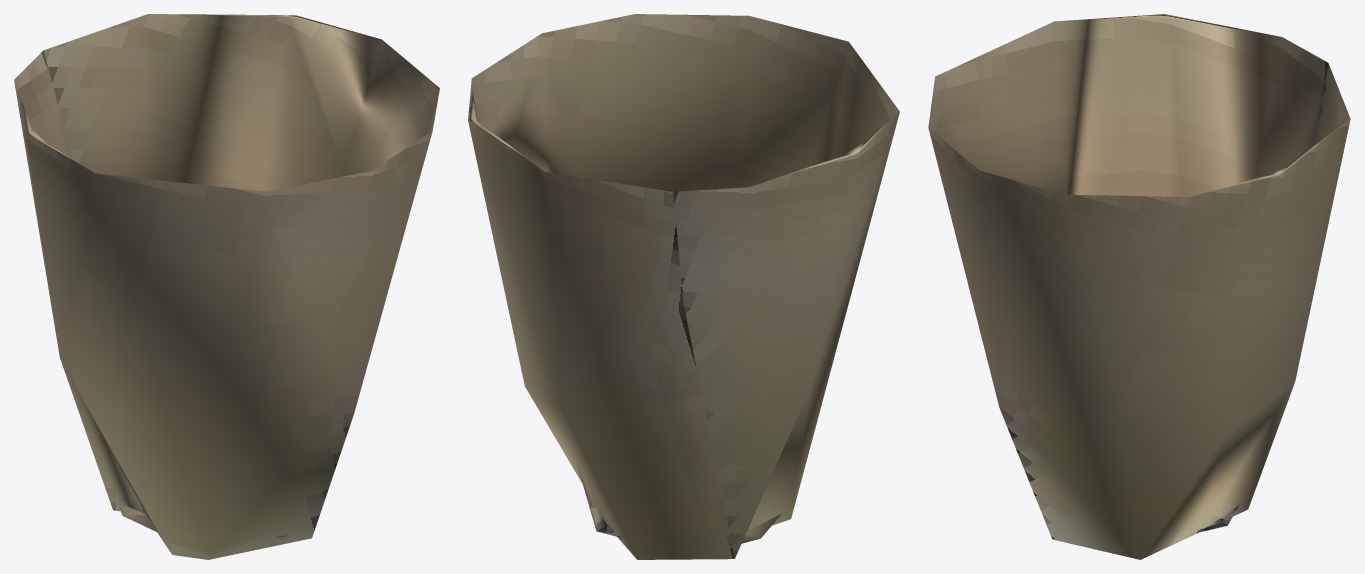
Rendered from Ecoforms_Plant_Container_URN_SAN-low.glb.
3 views of the same model, side by side, from view 1: azimuth 30°, elevation 25°; view 2: azimuth 150°, elevation 25°; view 3: azimuth 270°, elevation 25° (orthographic).
Visible parts, largest first — view 1: Ecoforms_Plant_Container_URN_SAN; view 2: Ecoforms_Plant_Container_URN_SAN; view 3: Ecoforms_Plant_Container_URN_SAN.
Part boxes in pixels (x1,y1,x2,y2): Ecoforms_Plant_Container_URN_SAN: [14, 14, 439, 559]; Ecoforms_Plant_Container_URN_SAN: [468, 14, 899, 559]; Ecoforms_Plant_Container_URN_SAN: [928, 14, 1350, 559].
Bounding box in the file's own units: 0.1464 × 0.1585 × 0.1462.
1 material, 1 textured.
